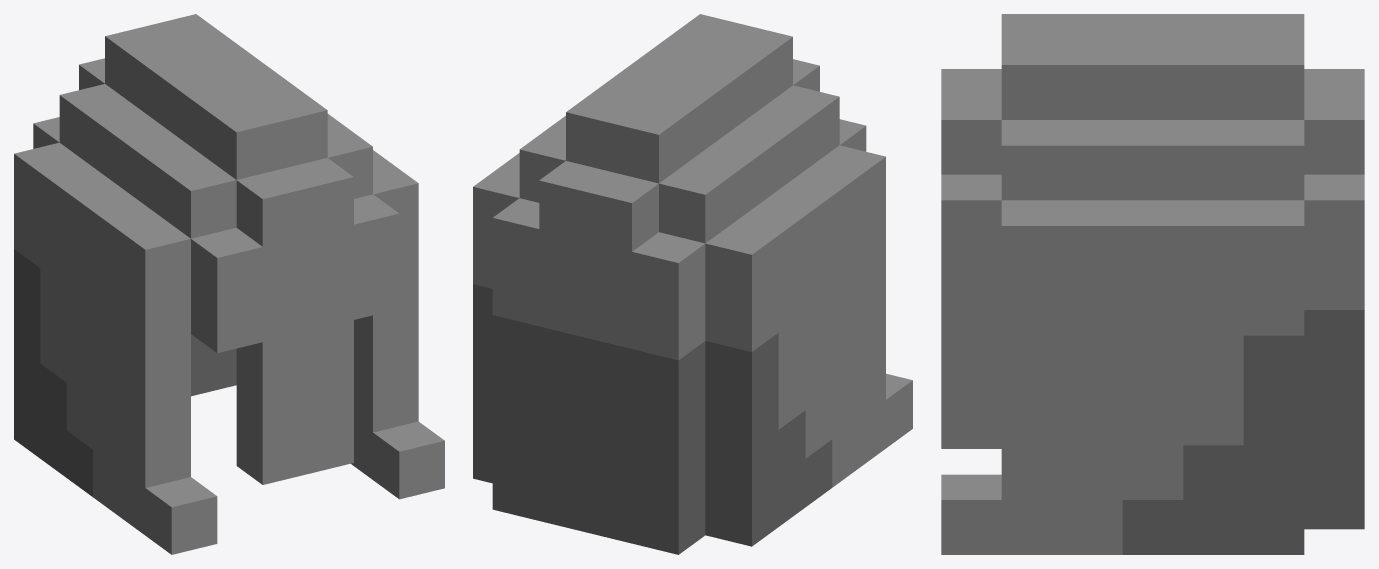
Rendered from humanoid-232-helm_hvy_2d_du.obj.
3 renders of one model, left to right at view 1: azimuth 30°, elevation 25°; view 2: azimuth 150°, elevation 25°; view 3: azimuth 270°, elevation 25°, orthographic. The views are drawn at different scales.
Parts seen in each view (by area): view 1: helm_hvy_2d_du; view 2: helm_hvy_2d_du; view 3: helm_hvy_2d_du.
Part boxes in pixels (box(x1,y1,x2,y2)): helm_hvy_2d_du: box(14, 14, 444, 554); helm_hvy_2d_du: box(473, 14, 912, 554); helm_hvy_2d_du: box(941, 14, 1364, 554).
Bounding box in the file's own units: 0.6 × 0.8 × 0.7.
Materials: 1 (1 with a texture image).
